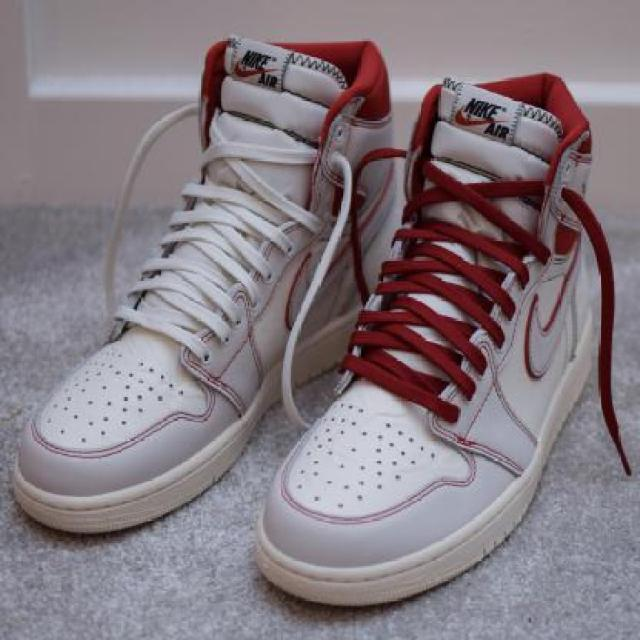shoe: (257, 74, 601, 609), (17, 27, 354, 538)
